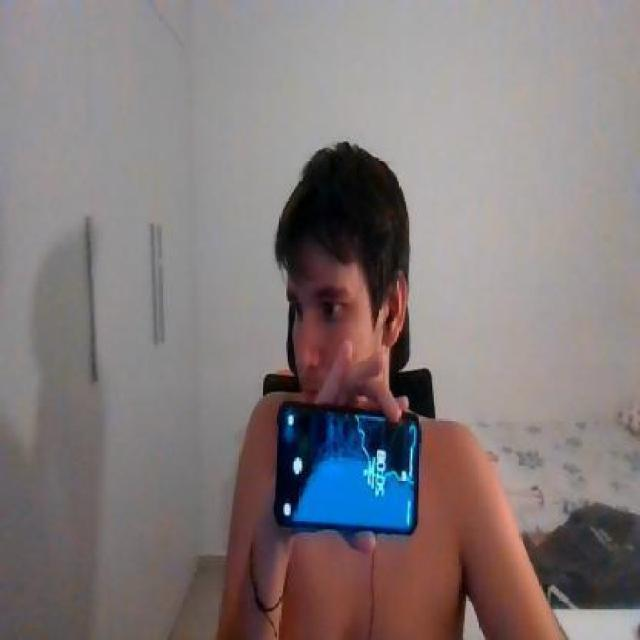mobile: (270, 405, 422, 537)
